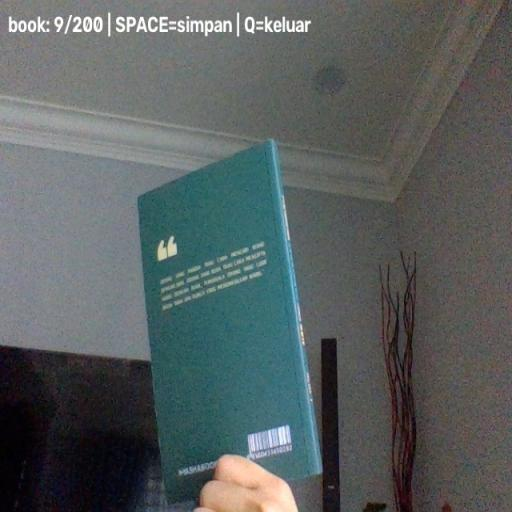Book: (138, 138, 322, 504)
